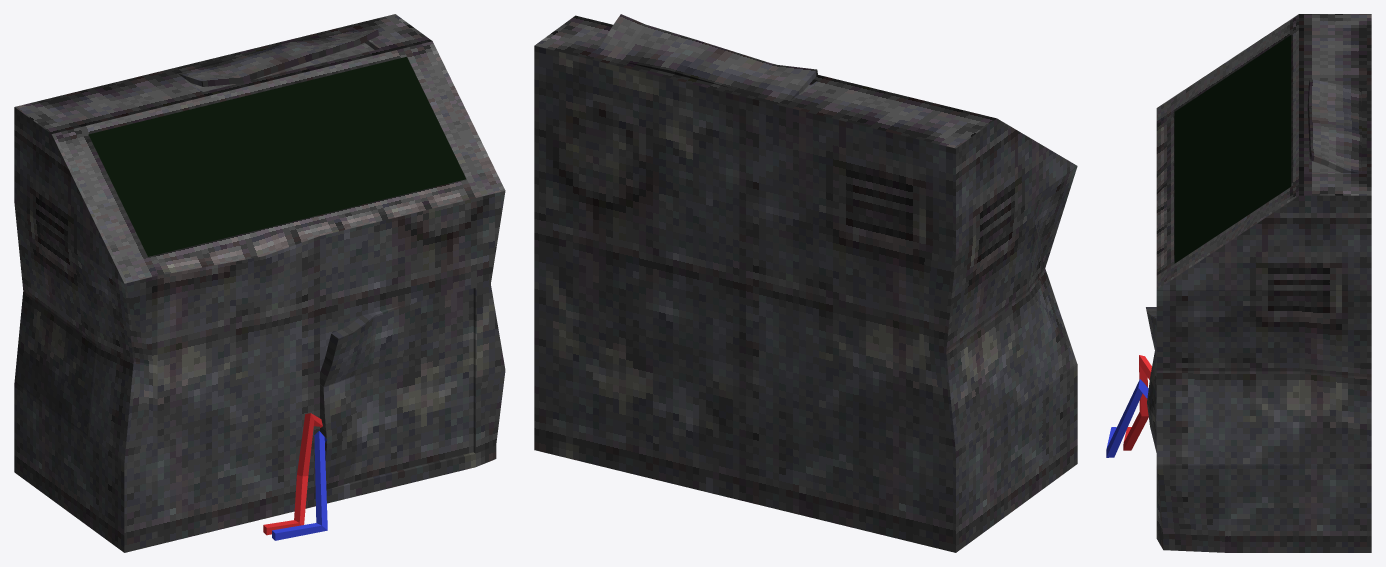
Rendered from console_1_broken.glb.
The picture shows the model from 3 angles, left to right: view 1: azimuth 30°, elevation 25°; view 2: azimuth 150°, elevation 25°; view 3: azimuth 270°, elevation 25°; orthographic projection. The views are drawn at different scales.
Visible parts, largest first — view 1: Cube.004; view 2: Cube.004; view 3: Cube.004.
Boxes of the visible parts, bbox=[...] form: Cube.004: bbox=[14, 14, 505, 552]; Cube.004: bbox=[534, 14, 1077, 552]; Cube.004: bbox=[1106, 14, 1371, 552].
Size of the model in its own units: 1.2 by 1.16 by 0.7407.
Materials: 5 (2 with a texture image).
